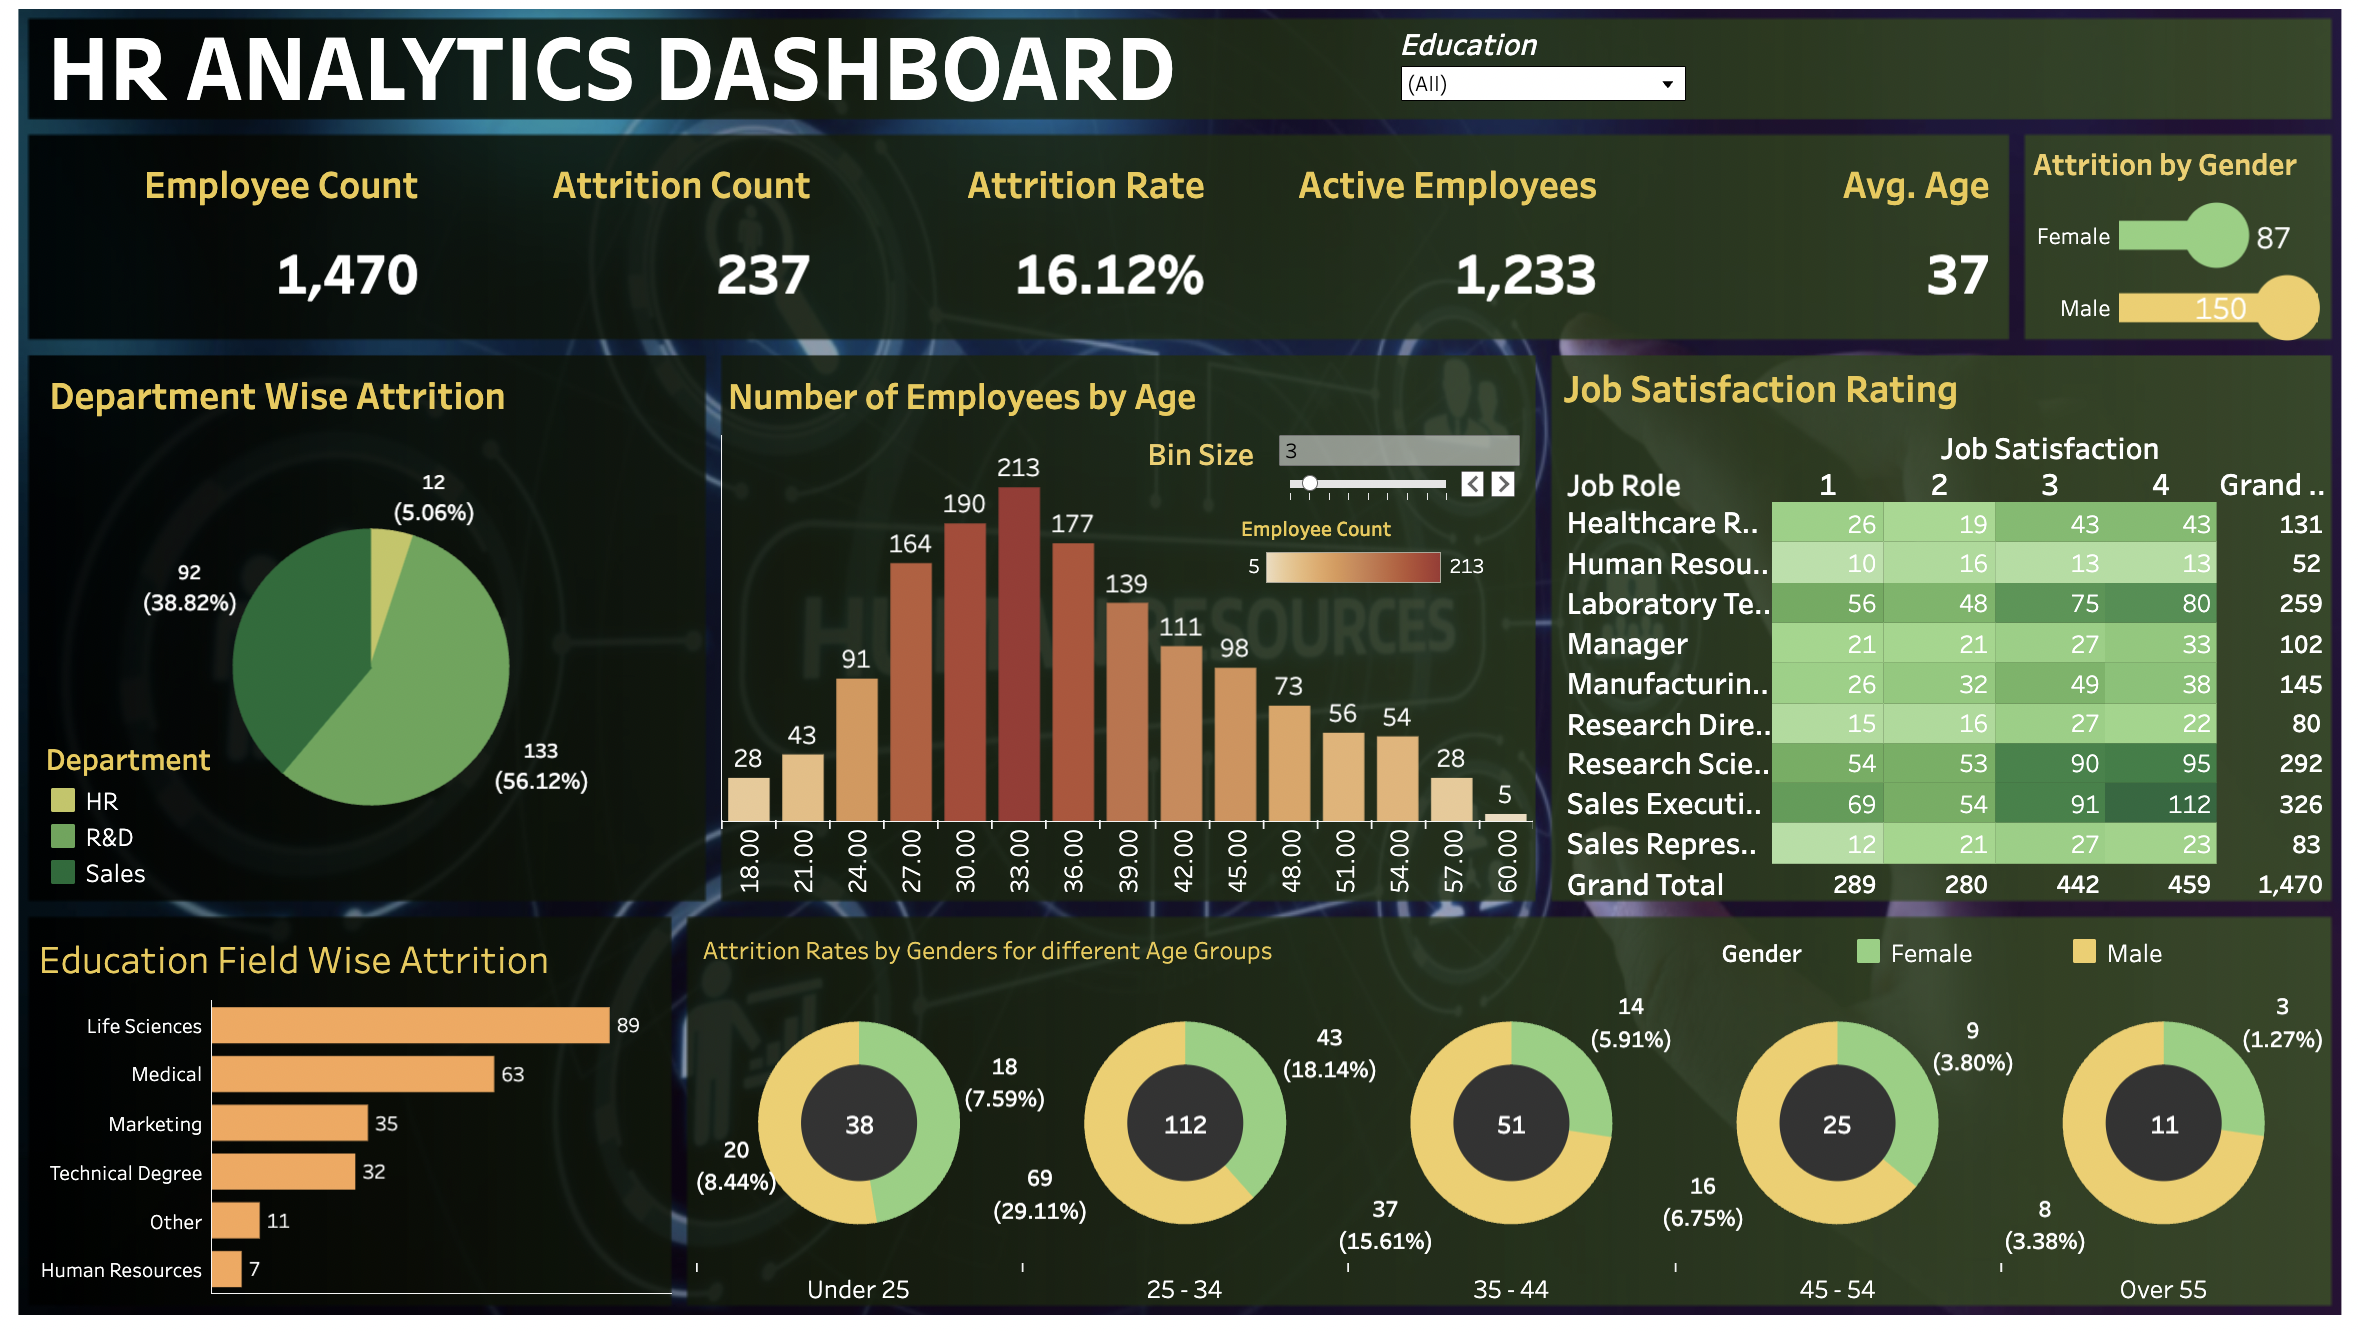

The dashboard page shown, as its layout file describes it:
{"tool":"tableau","page":{"name":"HR_Analytics_Dashboard","canvas":[1400,750],"ordinal":0},"visuals":[{"type":"image","param":"Image/HR background.pptx.png","box":[8,8,1384,734]},{"type":"text","box":[71,14,866,59]},{"type":"filter","title":"Number of Employees by Age","param":"[federated.1livq9e0vk3z721e03wog1xs7gjk].[none:Education:nk]","box":[822,20,160,49]},{"type":"worksheet","title":"Attrition by Gender","mark":"Bar","rows":["Gender"],"cols":["Calculation_14284863636426985","Calculation_14284863636426985"],"box":[1170,80,168,118]},{"type":"worksheet","title":"KPI","mark":"Automatic","box":[63,83,1091,110]},{"type":"worksheet","title":"Job Satisfaction Rating","mark":"Square","rows":["Job Role"],"cols":["Job Satisfaction"],"box":[909,203,429,306]},{"type":"worksheet","title":"Department Wise Attrition","mark":"Pie","box":[68,207,365,298]},{"type":"worksheet","title":"Number of Employees by Age","mark":"Bar","rows":["Employee Count"],"cols":["Age (bin)"],"box":[445,207,451,296]},{"type":"parameter","param":"[Parameters].[Parameter 1]","box":[682,248,208,44]},{"type":"legend","title":"Number of Employees by Age","param":"[federated.1livq9e0vk3z721e03wog1xs7gjk].[sum:Employee Count:qk]","box":[734,293,140,55]},{"type":"legend","title":"Department Wise Attrition","param":"[federated.1livq9e0vk3z721e03wog1xs7gjk].[none:Department:nk]","box":[70,418,96,84]},{"type":"worksheet","title":"Attrition Rates by Genders for different Age Groups","mark":"Pie","rows":["Calculation_14284863997124857","Calculation_14284863997124857"],"cols":["CF_age band"],"box":[431,519,906,213]},{"type":"worksheet","title":"Education Field Wise Attrition","mark":"Automatic","rows":["Education Field"],"cols":["Calculation_14284863636426985"],"box":[62,520,356,206]},{"type":"legend","title":"Attrition Rates by Genders for different Age Groups","param":"[federated.1livq9e0vk3z721e03wog1xs7gjk].[none:Gender:nk]","box":[1001,526,312,27]}]}

Visuals, with their boxes on the page's 1400x750 design canvas (x1, y1, x2, y2). These are canvas units, not pixel positions in the 2358x1332 screenshot, which may show the page scaled, cropped or inside an application window:
image: select_region(8, 8, 1392, 742)
text: select_region(71, 14, 937, 73)
"Number of Employees by Age" filter: select_region(822, 20, 982, 69)
"Attrition by Gender" worksheet (Bar marks): select_region(1170, 80, 1338, 198)
"KPI" worksheet: select_region(63, 83, 1154, 193)
"Job Satisfaction Rating" worksheet (Square marks): select_region(909, 203, 1338, 509)
"Department Wise Attrition" worksheet (Pie marks): select_region(68, 207, 433, 505)
"Number of Employees by Age" worksheet (Bar marks): select_region(445, 207, 896, 503)
parameter: select_region(682, 248, 890, 292)
"Number of Employees by Age" legend: select_region(734, 293, 874, 348)
"Department Wise Attrition" legend: select_region(70, 418, 166, 502)
"Attrition Rates by Genders for different Age Groups" worksheet (Pie marks): select_region(431, 519, 1337, 732)
"Education Field Wise Attrition" worksheet: select_region(62, 520, 418, 726)
"Attrition Rates by Genders for different Age Groups" legend: select_region(1001, 526, 1313, 553)
